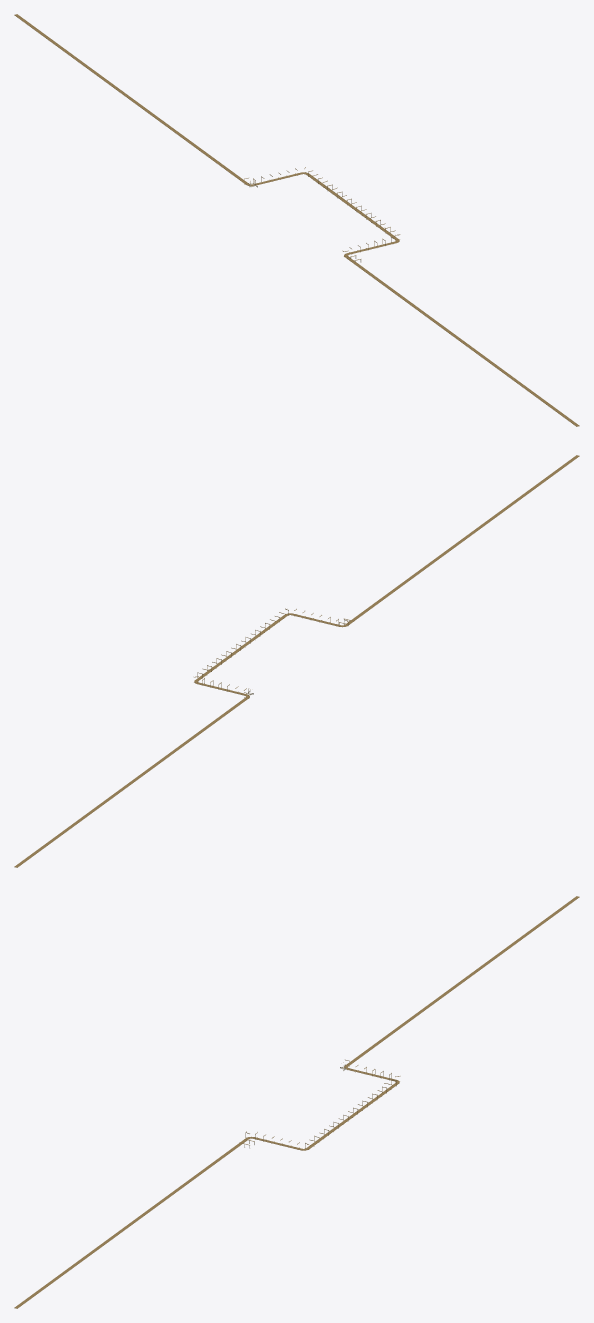
Rendered from section_r002.glb.
3 views of the same model, one above another, from view 1: azimuth 30°, elevation 25°; view 2: azimuth 150°, elevation 25°; view 3: azimuth 330°, elevation 25° (orthographic).
Parts seen in each view (by area): view 1: TSC23_ContinuousWeb; view 2: TSC23_ContinuousWeb; view 3: TSC23_ContinuousWeb.
Boxes of the visible parts, x1,y1,x2,y2 form: TSC23_ContinuousWeb: (14, 14, 579, 426); TSC23_ContinuousWeb: (14, 455, 579, 867); TSC23_ContinuousWeb: (14, 896, 579, 1308).
Bounding box in the file's own units: 58.01 × 8.33 × 932.
Materials: 3 (3 with a texture image).
